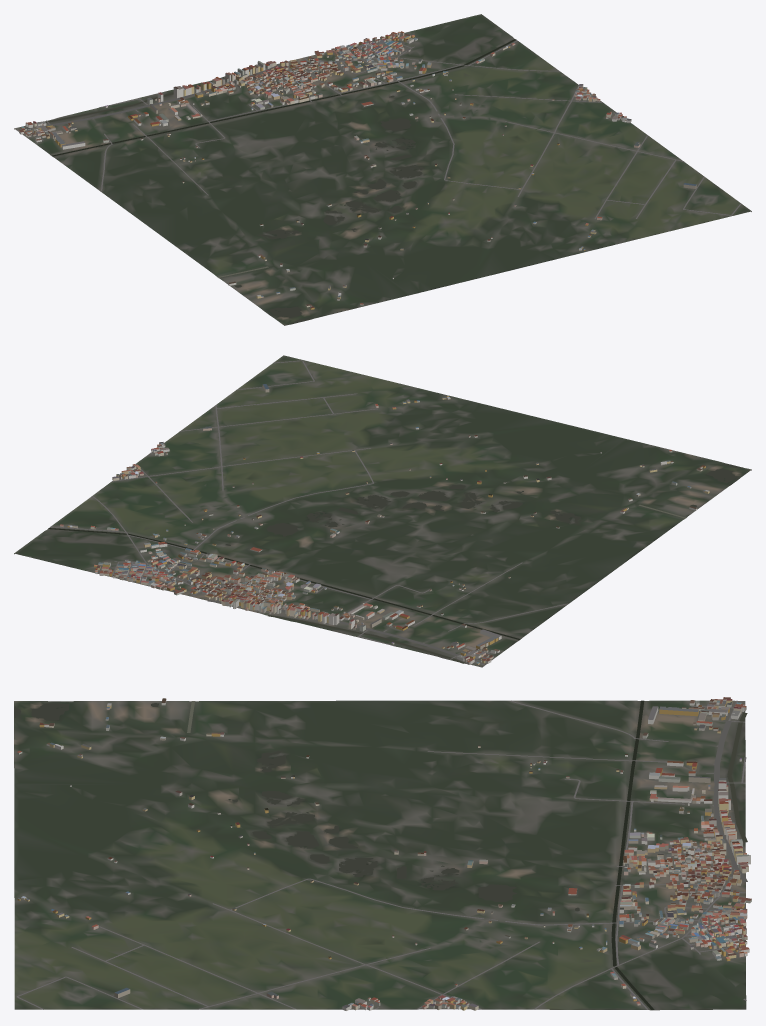
The picture shows the model from 3 angles, top to bottom: view 1: azimuth 30°, elevation 25°; view 2: azimuth 150°, elevation 25°; view 3: azimuth 270°, elevation 25°; orthographic projection. The views are drawn at different scales.
Visible parts, largest first — view 1: ground, buildings, water, roads; view 2: ground, buildings, water, roads; view 3: ground, buildings, water, roads.
Part boxes in pixels (bbox=[...]): ground: bbox=[14, 14, 751, 325]; buildings: bbox=[19, 31, 696, 309]; water: bbox=[32, 39, 516, 323]; roads: bbox=[17, 17, 741, 218]; ground: bbox=[14, 355, 751, 667]; buildings: bbox=[60, 384, 709, 664]; water: bbox=[48, 463, 742, 663]; roads: bbox=[28, 360, 568, 665]; ground: bbox=[14, 700, 746, 1010]; buildings: bbox=[16, 697, 751, 1010]; water: bbox=[14, 700, 747, 1010]; roads: bbox=[16, 700, 747, 1009].
Size of the model in its own units: 1413 by 30.65 by 1414.
